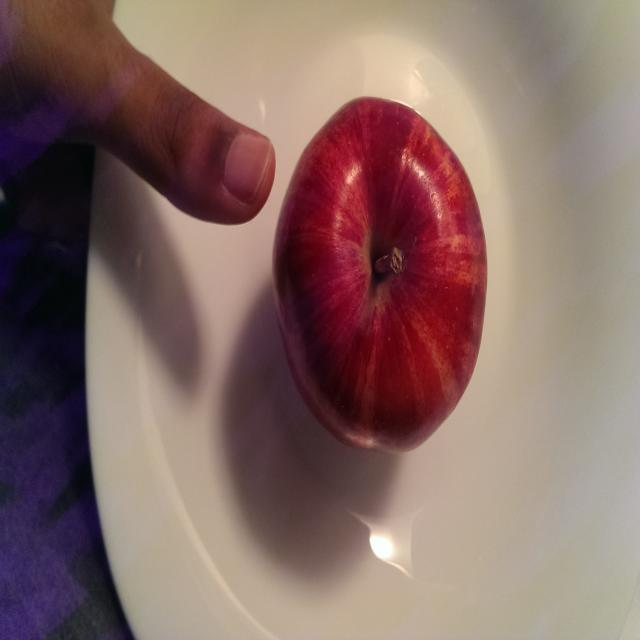Apple: (276, 88, 492, 460)
Finger: (146, 48, 278, 222)
